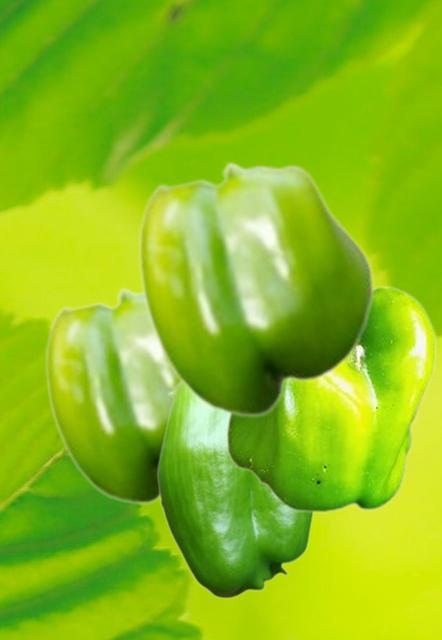bell_pepper: (138, 161, 374, 417), (225, 282, 435, 512), (156, 381, 314, 598), (45, 287, 177, 504)
